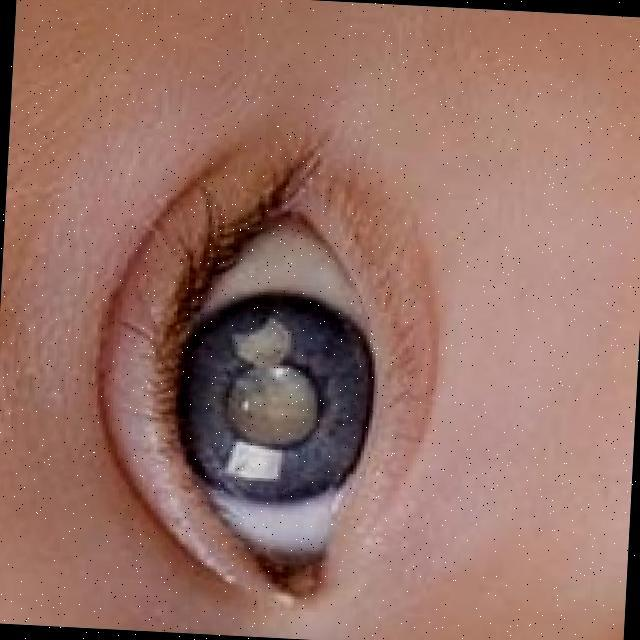Cataract: (184, 268, 376, 524)
